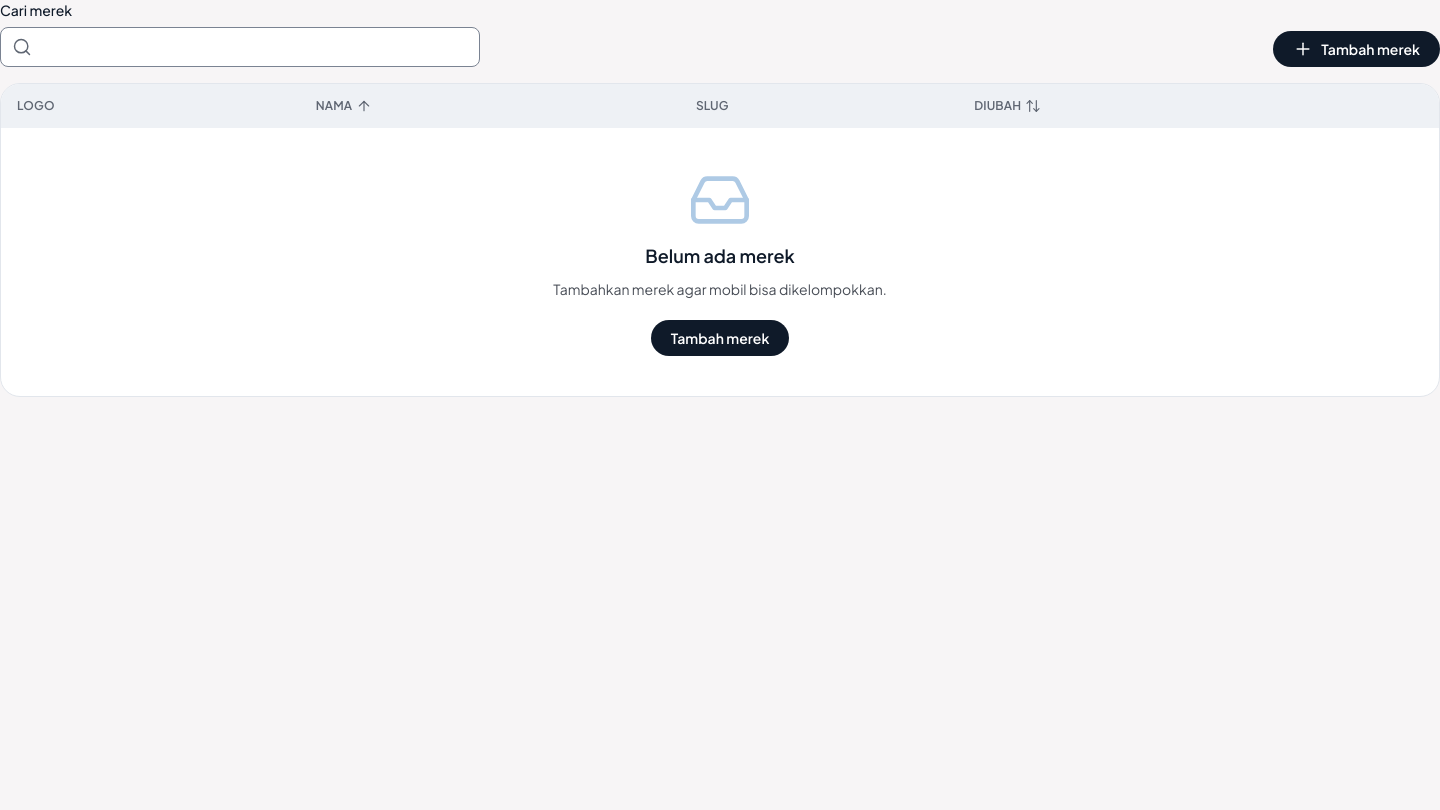
Test: BrandsPage form › validates the name on the client
The image size is (1440, 810).
Check: the heading "Belum ada merek" is shown, box [645, 244, 795, 267]
Click the 1st button "Tambah merek" at (1357, 49), box [1273, 31, 1439, 67]
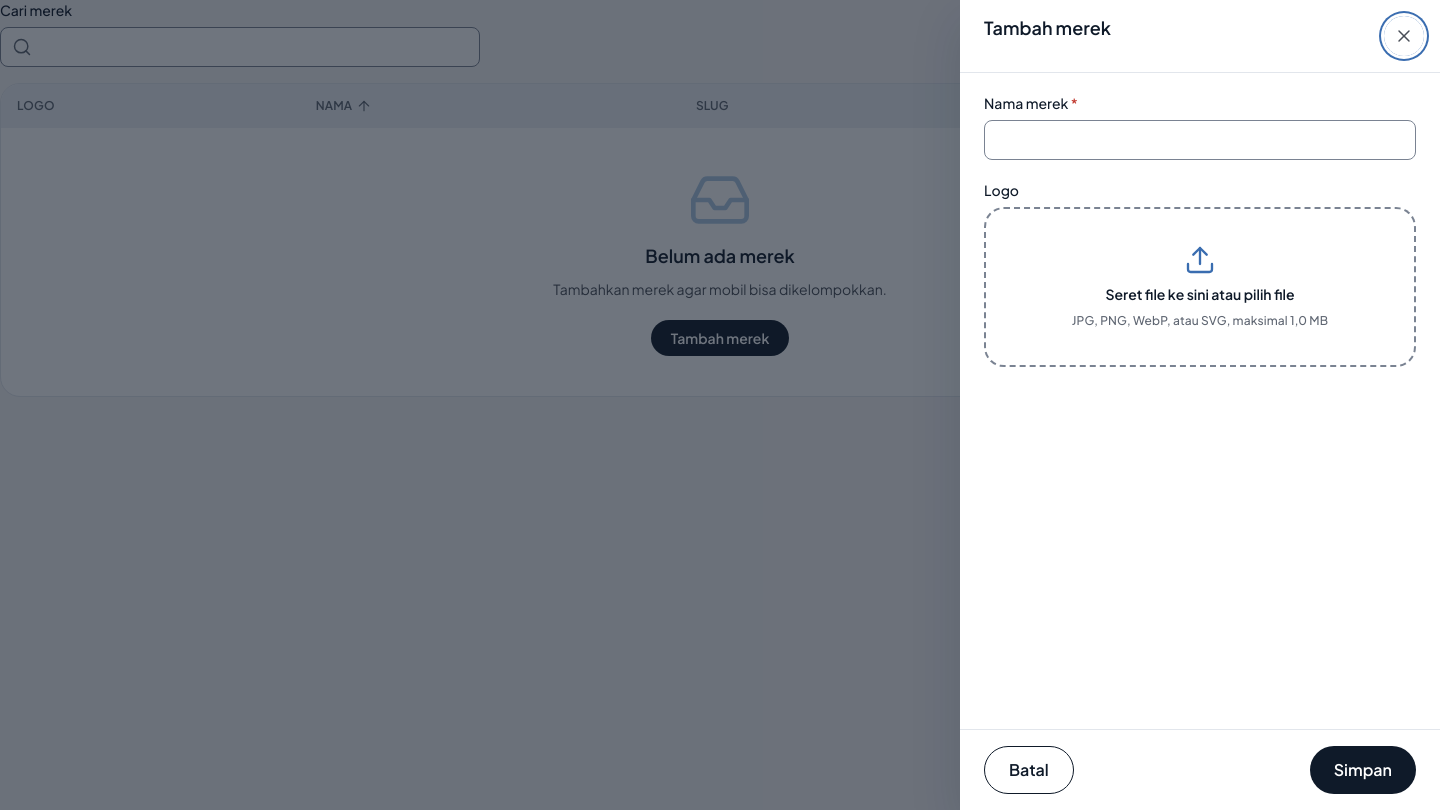
Click the button "Simpan" at (1363, 770), box [1310, 746, 1416, 794]
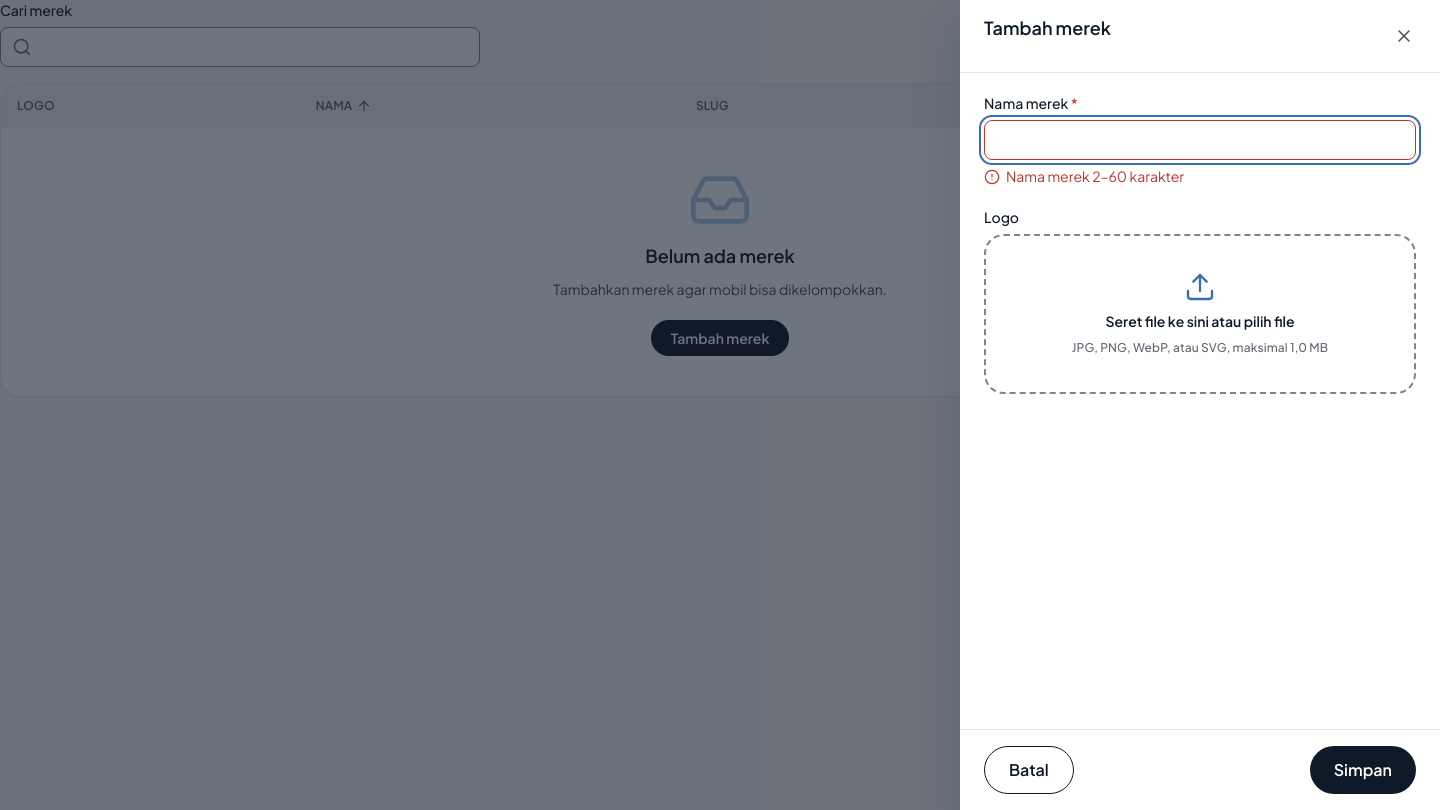
Check: the text "Nama merek 2–60 karakter" is shown, box [984, 167, 1184, 185]
